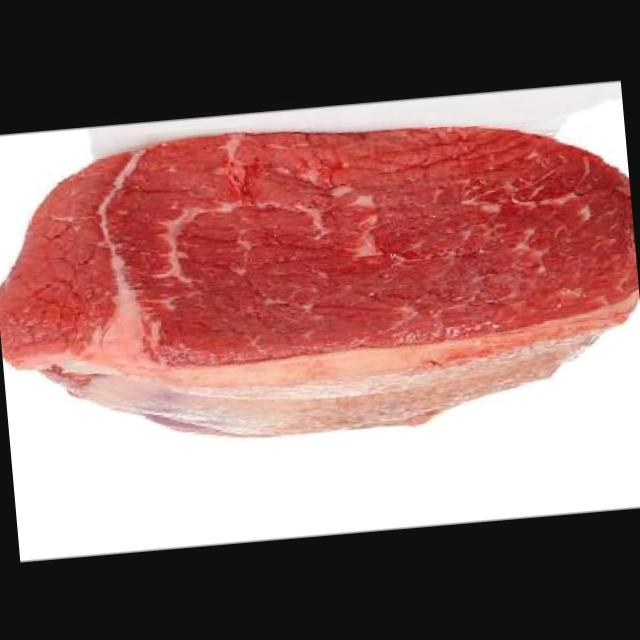beef: (0, 96, 640, 463)
